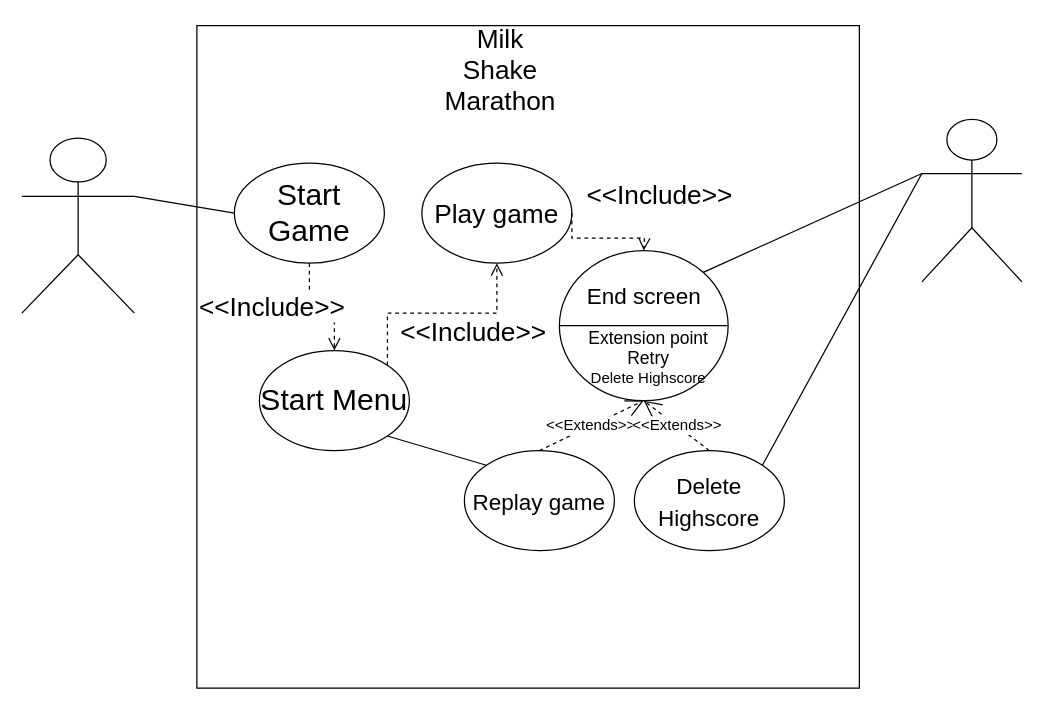
Image size: 1064x710. Some labels were removed from this diagram. Here are the shapes that lost their labels. From the top down, the box of each, then its label:
(921, 118, 1022, 282): PlayerPref
(21, 137, 134, 313): Player
